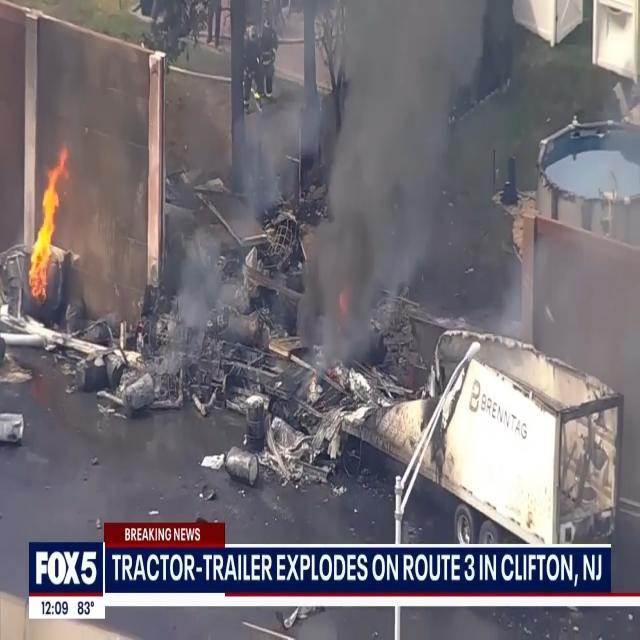fire: (26, 132, 76, 305)
